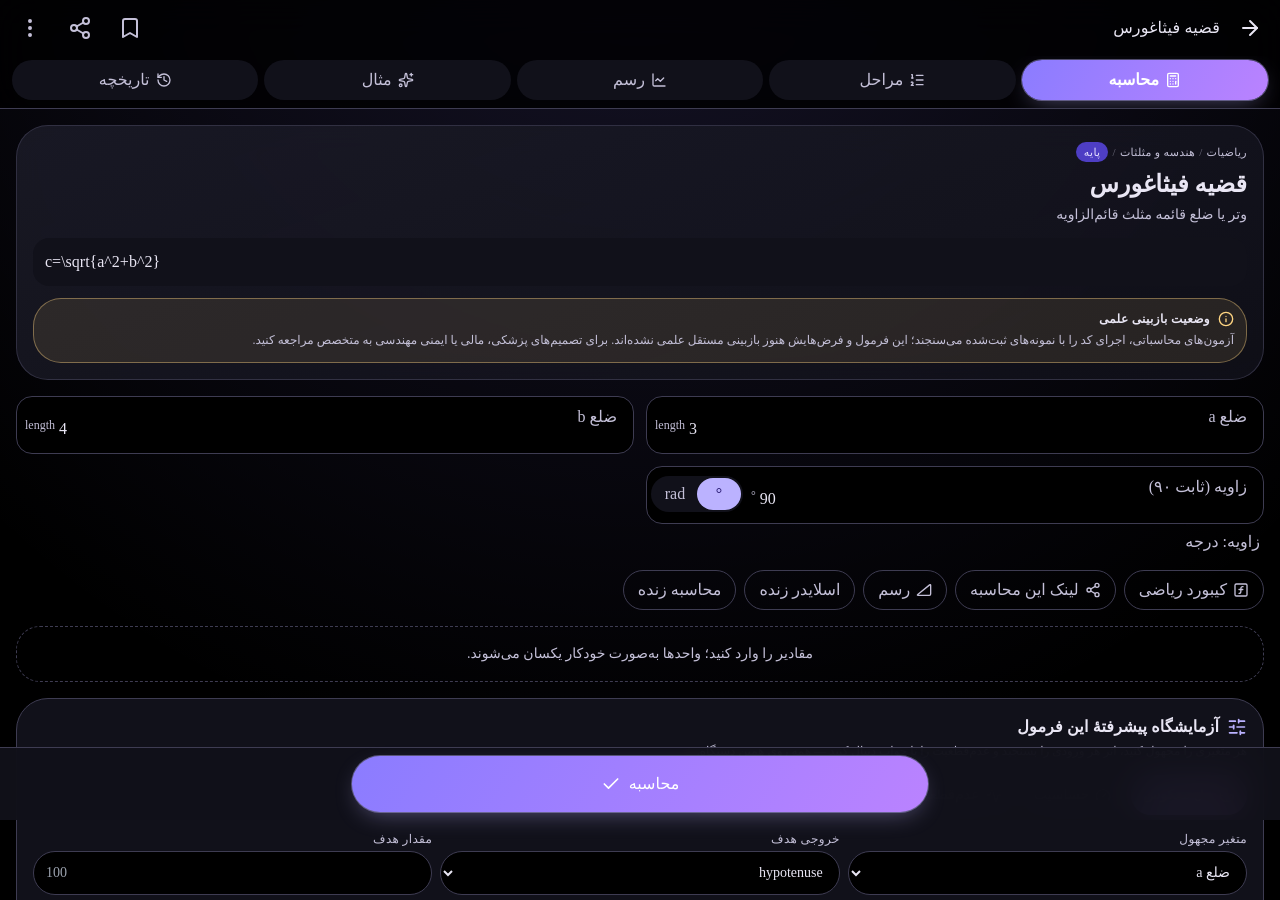
FormulaSolver flow › shows step-by-step content after computing
The width and height of the screenshot is (1280, 900).
Click the button "محاسبه": x=640, y=784 [352,756,928,812]
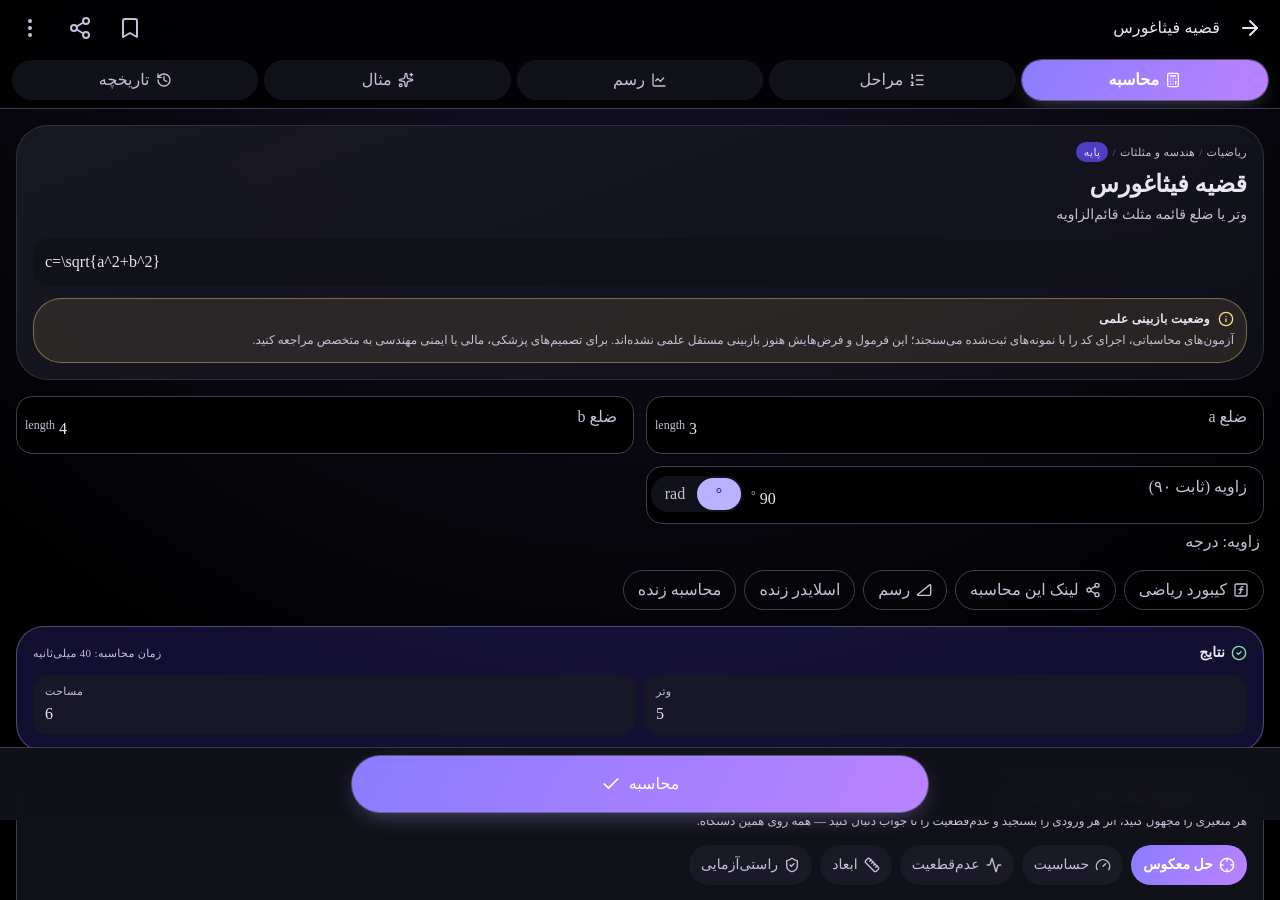
Now the heading "نتایج" is shown, box [1199,643,1247,663]
Click the tab "مراحل": x=892, y=80 [769,60,1016,100]
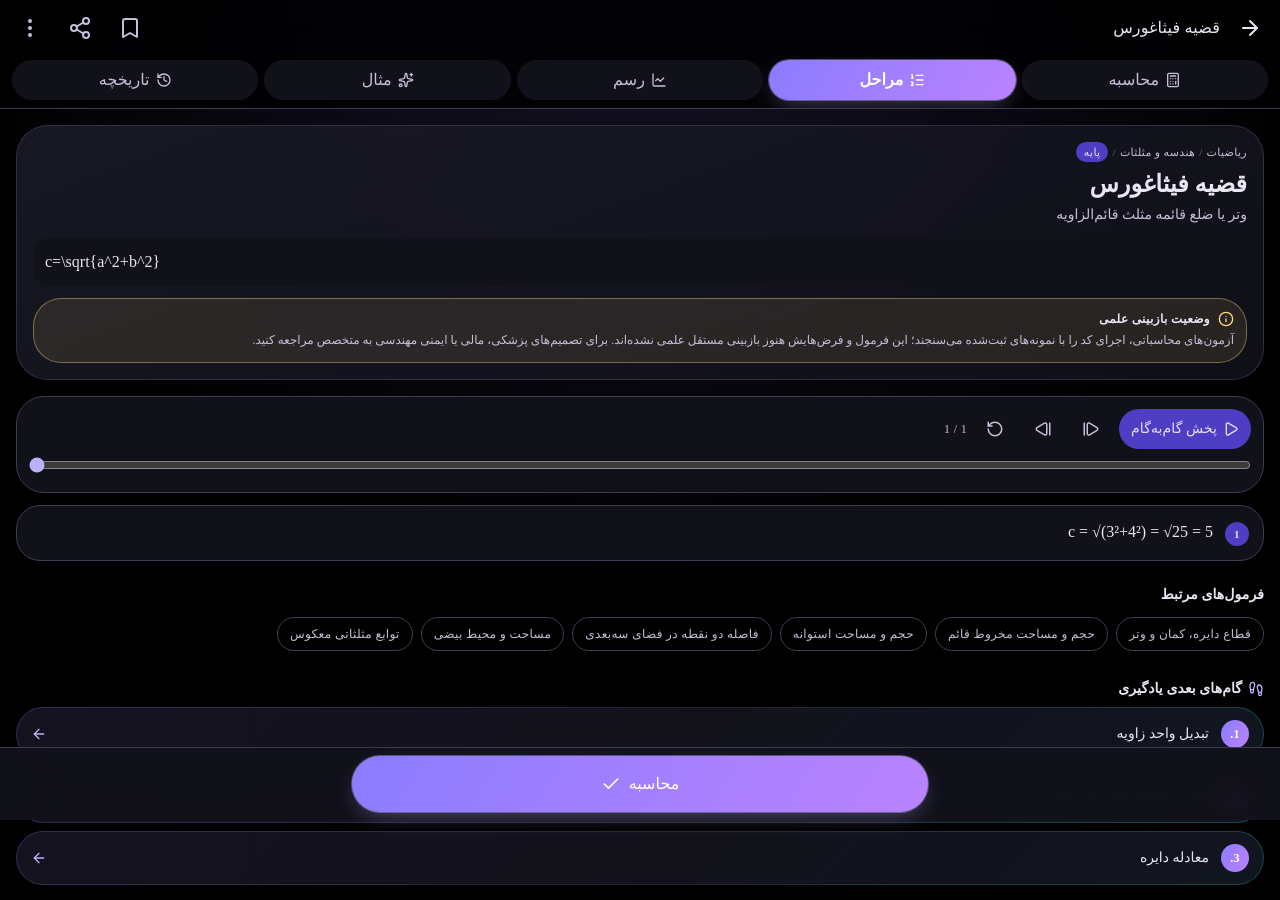
Now the list item is shown, box [16,505,1264,561]
Now the text "c = √(3²+4²) = √25 = 5" is shown, box [1068,523,1213,540]
